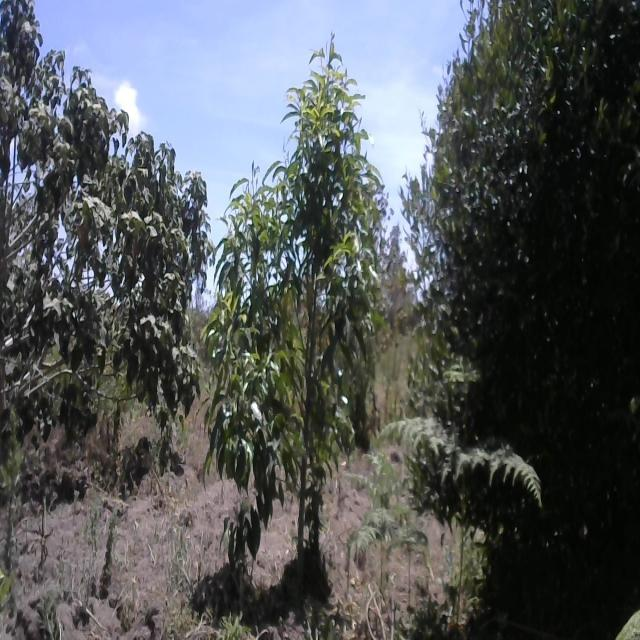Lemon Myrtle: (207, 36, 389, 572)
Salix alba: (397, 0, 640, 629)
other: (0, 0, 207, 500)
